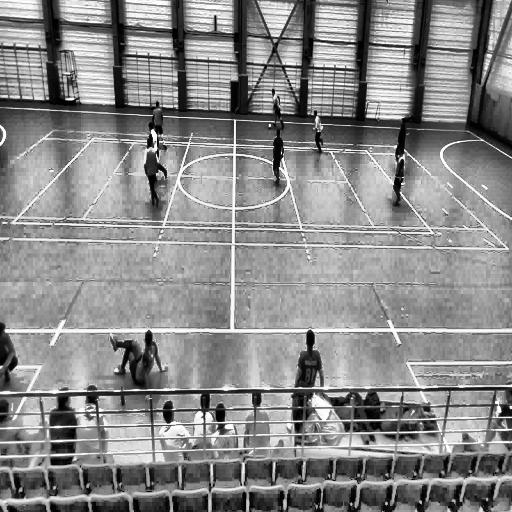ball: (268, 122, 272, 130)
player: (296, 329, 324, 408), (144, 136, 166, 210), (392, 145, 406, 211), (272, 123, 285, 186), (152, 98, 166, 148), (270, 87, 286, 129), (395, 113, 408, 162), (312, 109, 324, 154), (147, 119, 159, 157)
